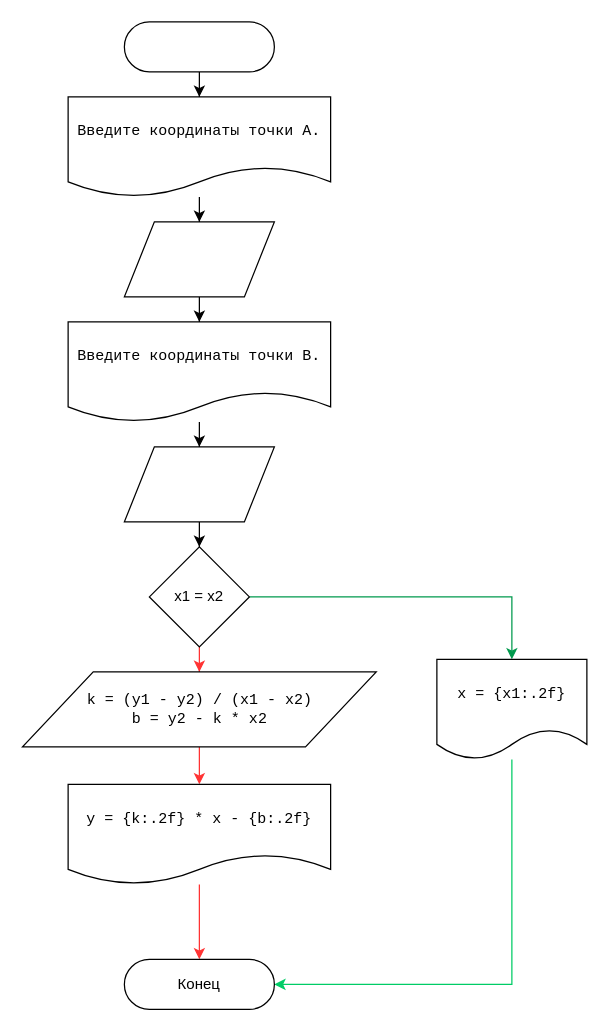
This 609x1031 diagram has some shape labels left out. The box of each missing label's shape, as (x1, y1, x2, y2) in pixels:
x1, y1: (123, 221, 274, 297)
x2, y2: (123, 446, 274, 522)
Начало: (123, 21, 274, 72)
